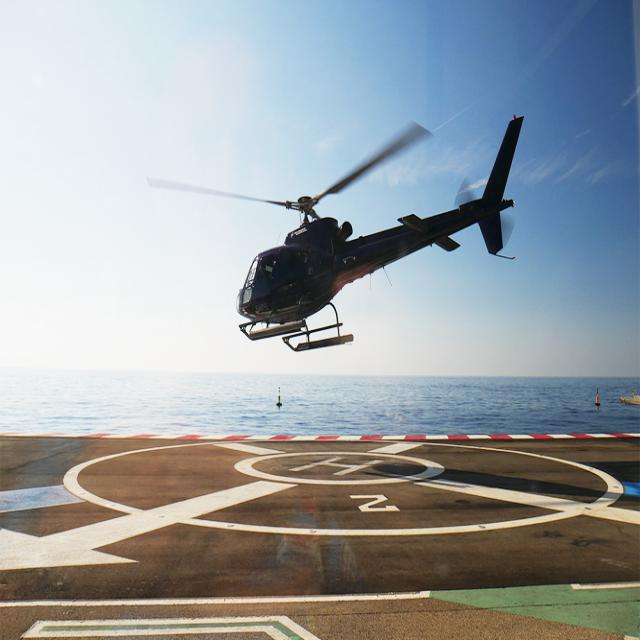helipad: (231, 447, 445, 489)
